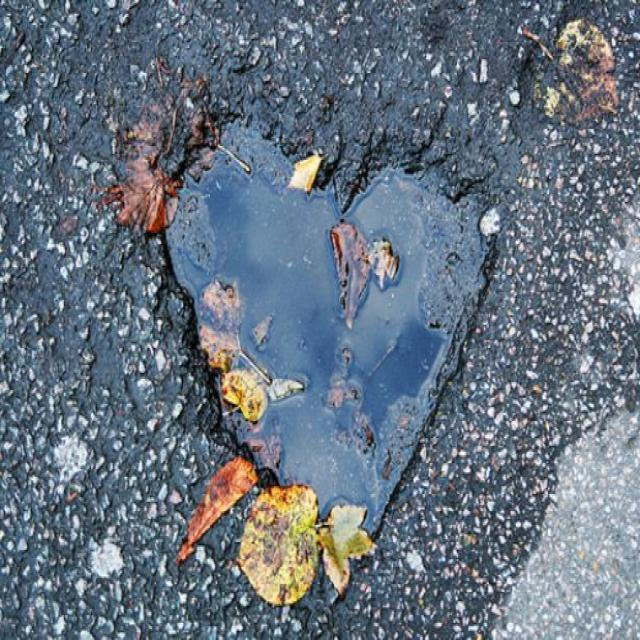Pothole: (158, 99, 508, 581)
